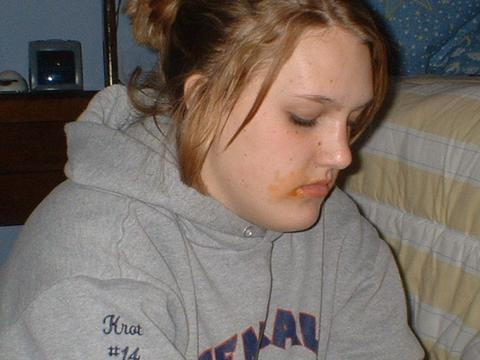without_mask: (200, 4, 381, 237)
